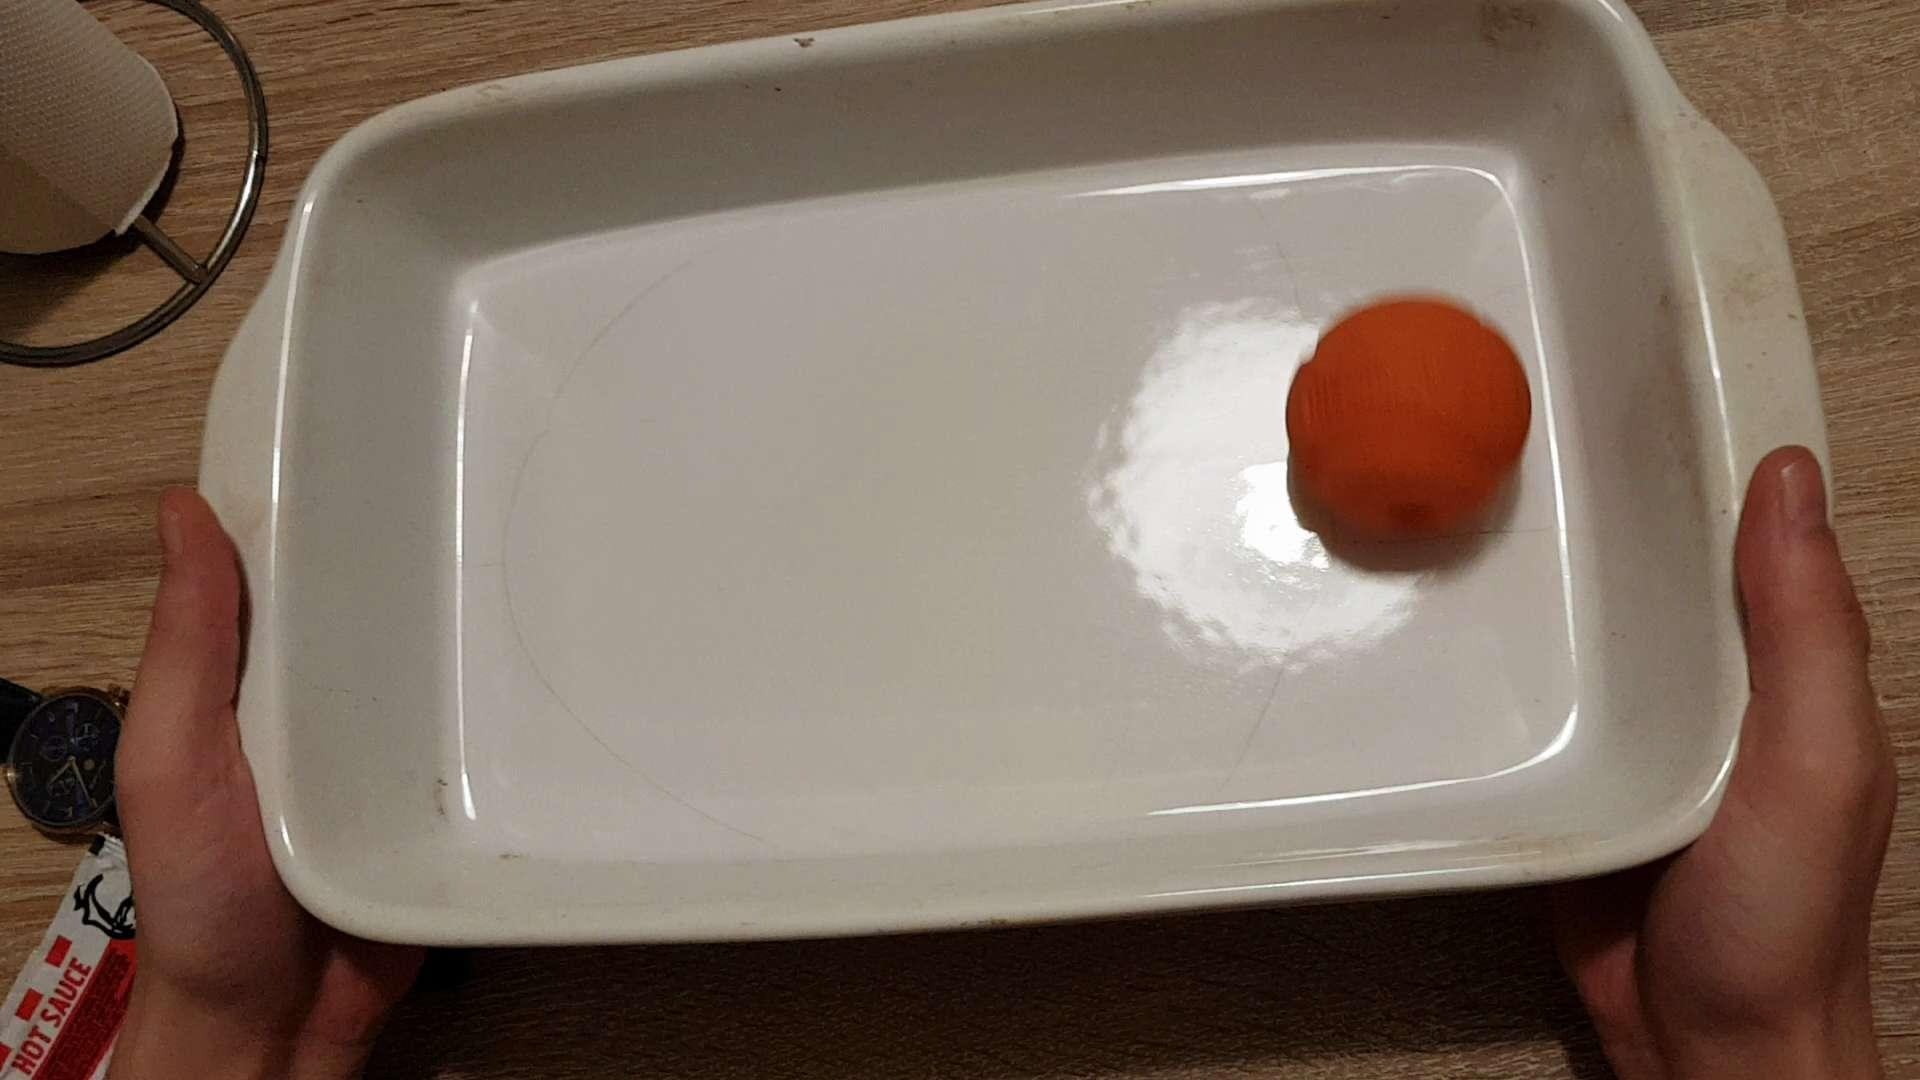sphere: (1273, 290, 1530, 574)
